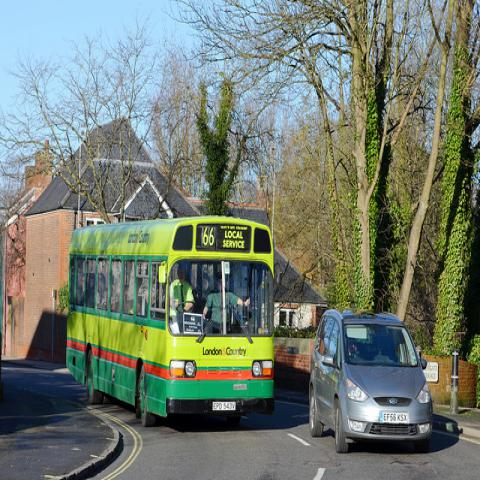bus: (64, 221, 272, 431)
car: (307, 310, 432, 458)
